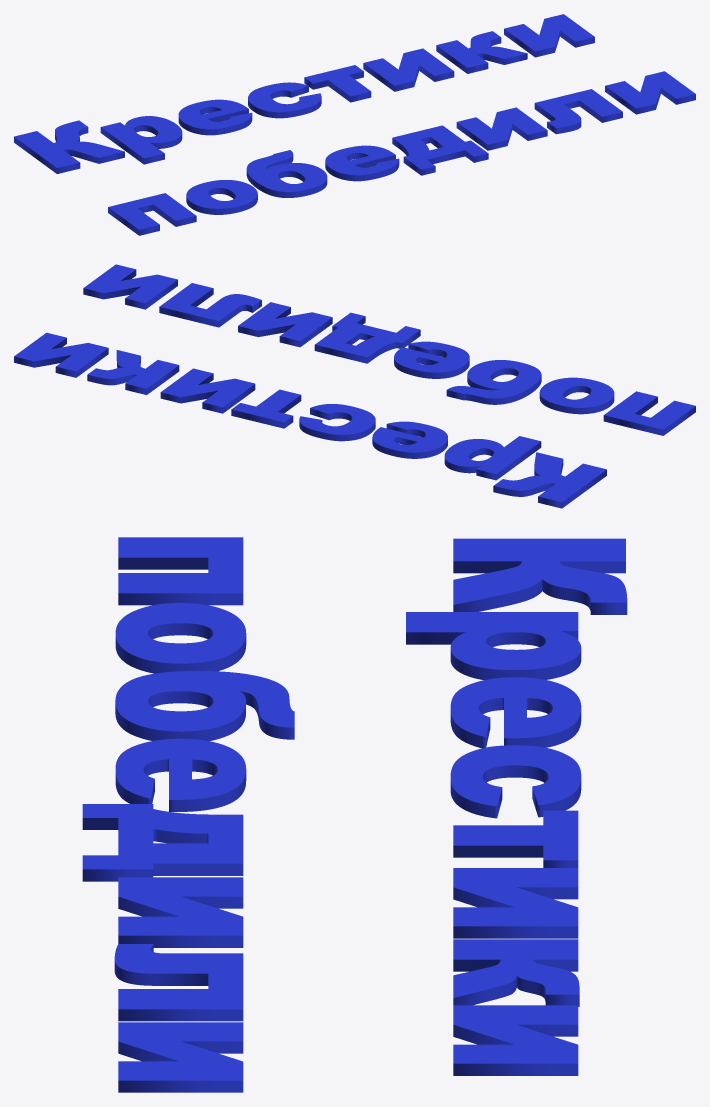
The model's file is WinX.fbx.
The picture shows the model from 3 angles, top to bottom: view 1: azimuth 30°, elevation 25°; view 2: azimuth 150°, elevation 25°; view 3: azimuth 270°, elevation 25°; orthographic projection. The views are drawn at different scales.
Visible parts, largest first — view 1: Text.001; view 2: Text.001; view 3: Text.001.
Part boxes in pixels (left/top/right/bottom): Text.001: left=14, top=14, right=695, bottom=235; Text.001: left=14, top=264, right=695, bottom=508; Text.001: left=82, top=537, right=627, bottom=1092.
Size of the model in its own units: 384 by 4 by 163.
